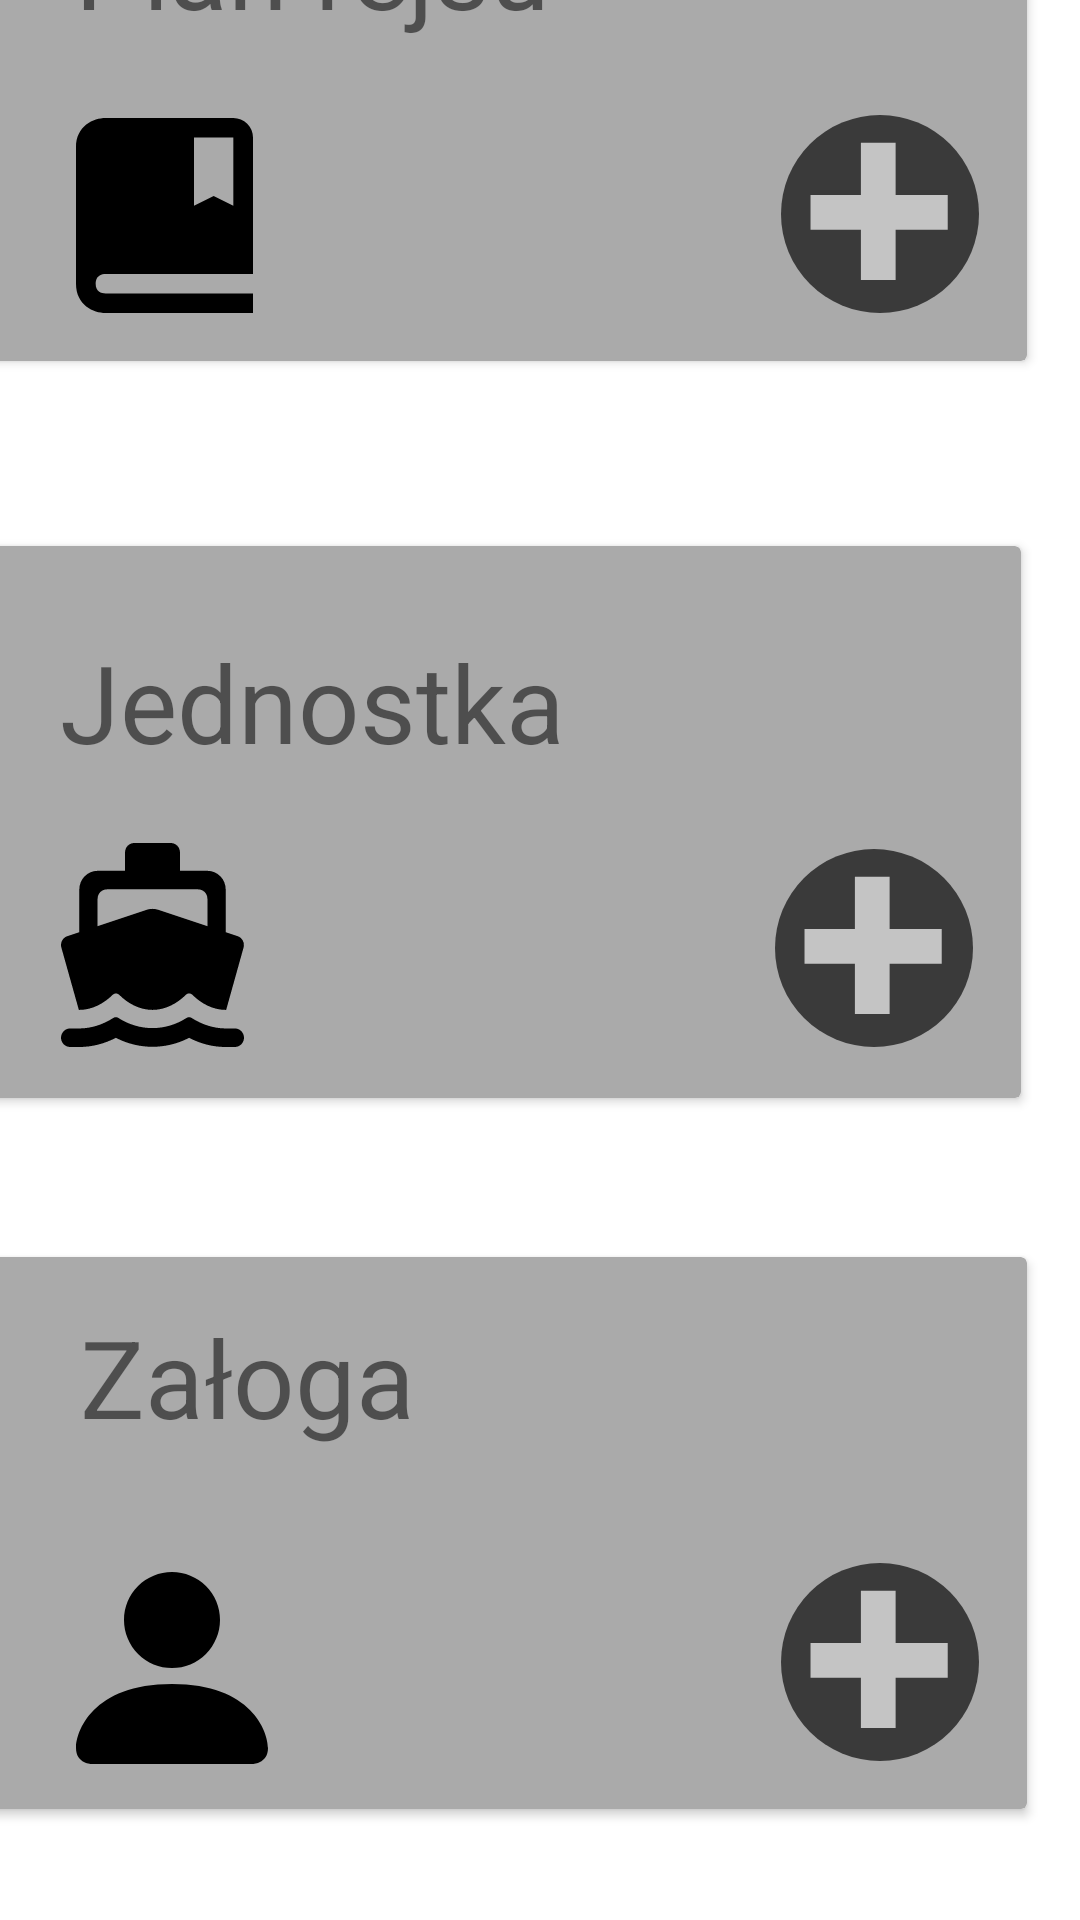

Icons on this 1080 x 1920 Android screen, each with its box as {"left": x1, "top": y1, "right": x2, "bottom": y2}:
book: {"left": 76, "top": 118, "right": 253, "bottom": 313}
person: {"left": 76, "top": 1572, "right": 268, "bottom": 1764}
ship: {"left": 61, "top": 843, "right": 244, "bottom": 1047}
